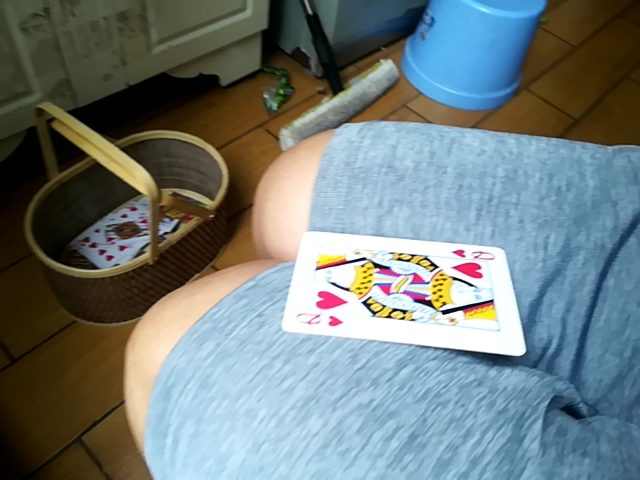hx q: (283, 233, 521, 355)
